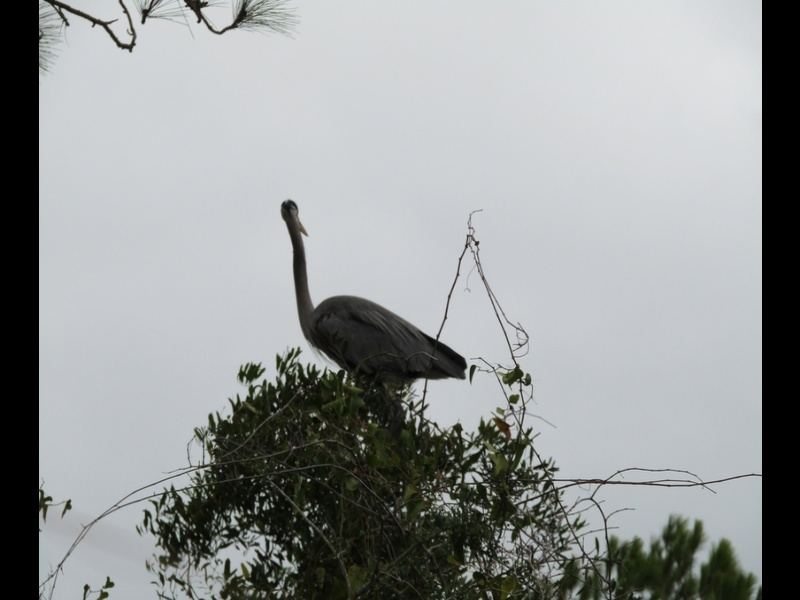heron: (277, 197, 469, 404)
